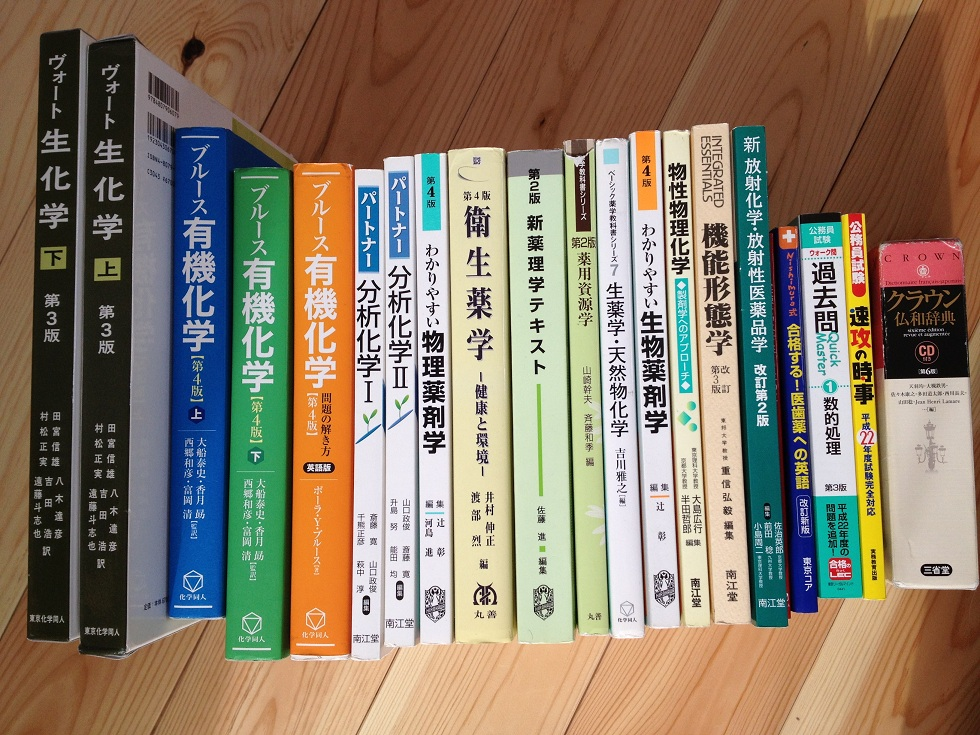book: (23, 25, 85, 648), (443, 143, 518, 649), (223, 154, 296, 668), (284, 154, 357, 663), (504, 145, 577, 646), (164, 123, 232, 624), (83, 33, 137, 660), (593, 137, 644, 645), (561, 132, 610, 640), (410, 147, 457, 651), (344, 164, 387, 664), (381, 151, 418, 651)
